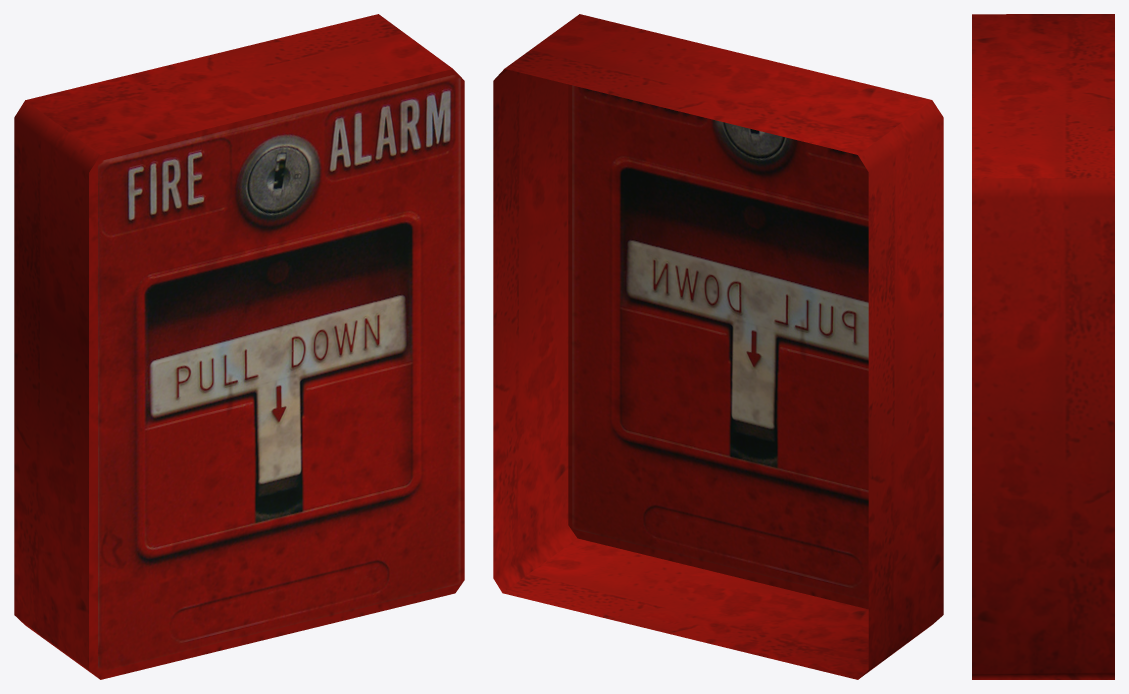
File: FireAlarmBox01.FBX
3 views of the same model, side by side, from view 1: azimuth 30°, elevation 25°; view 2: azimuth 150°, elevation 25°; view 3: azimuth 270°, elevation 25° (orthographic). The views are drawn at different scales.
Visible parts, largest first — view 1: FireAlarmBox01; view 2: FireAlarmBox01; view 3: FireAlarmBox01.
Part boxes in pixels (x1,y1,x2,y2): FireAlarmBox01: (14, 14, 464, 679); FireAlarmBox01: (493, 14, 943, 679); FireAlarmBox01: (972, 14, 1114, 679).
Size of the model in its own units: 6.79 by 9.07 by 2.35.
Materials: 1 (1 with a texture image).
